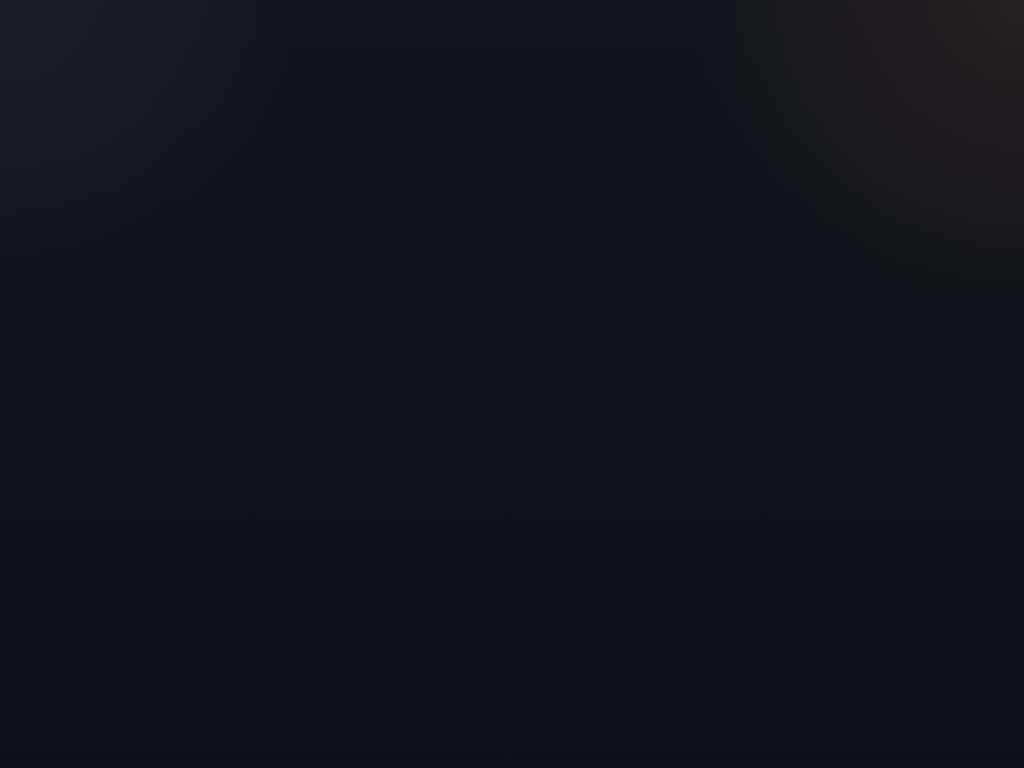
Test: CommandPalette › filters commands by query
Press /
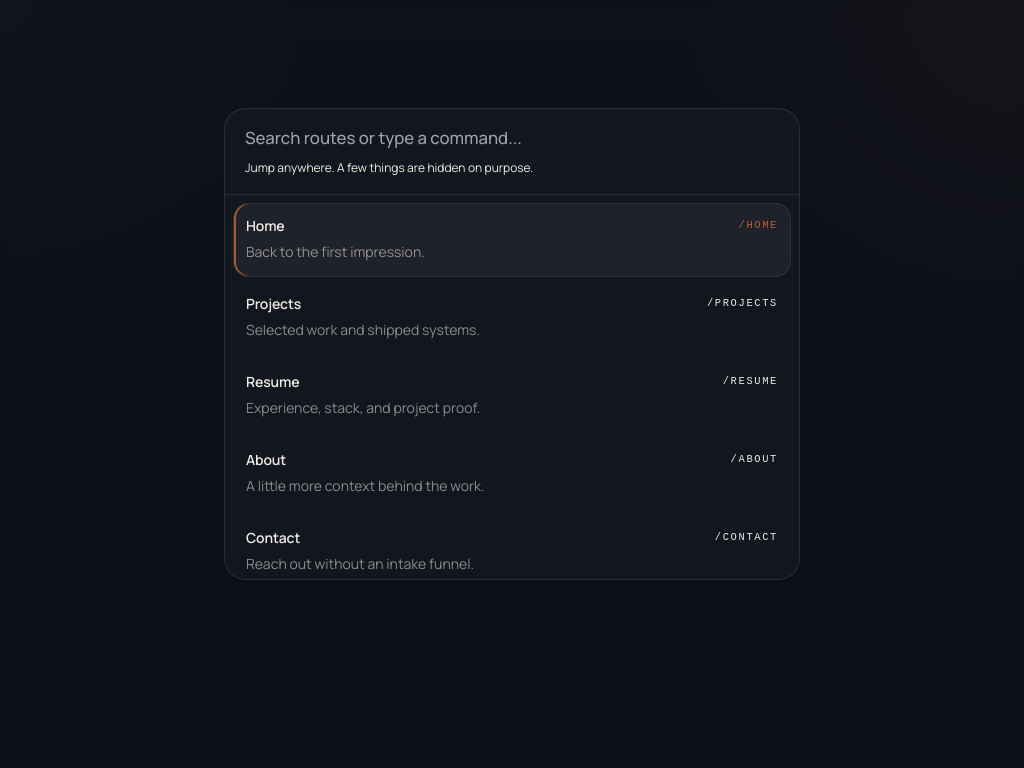
Type "resume" into the field at (512, 137), box left=245, top=124, right=779, bottom=150
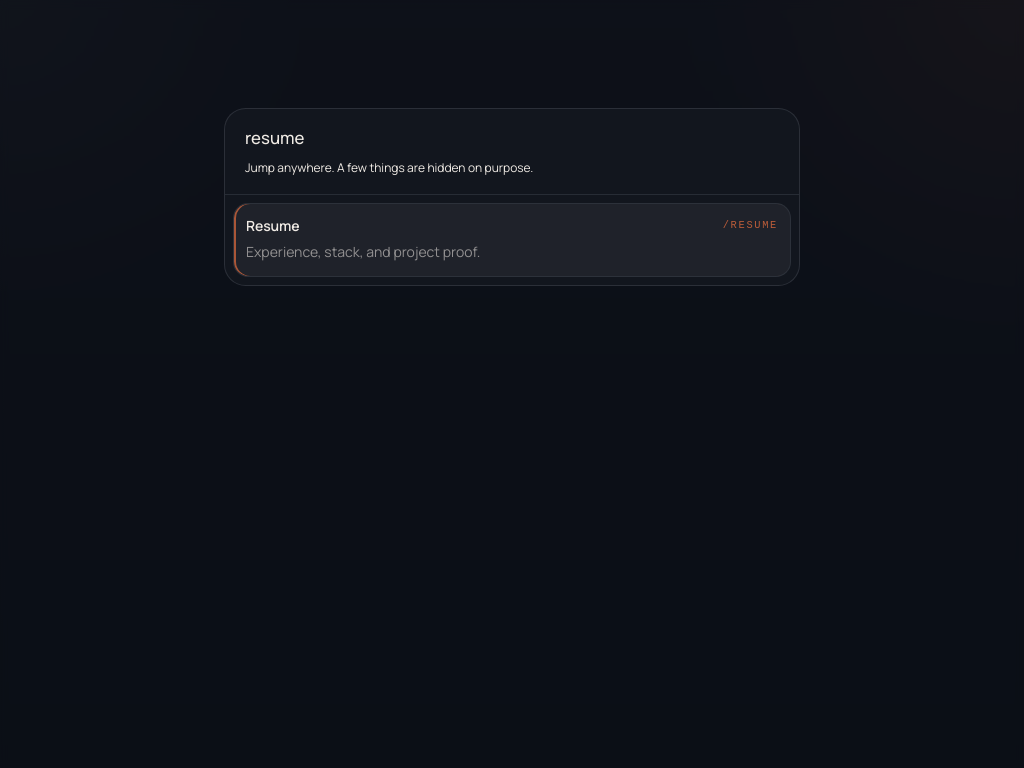
Expected: the button "Resume /resume Experience, stack, and project proof." is shown, left=233, top=203, right=791, bottom=277
Expected: the button "Home" is gone
